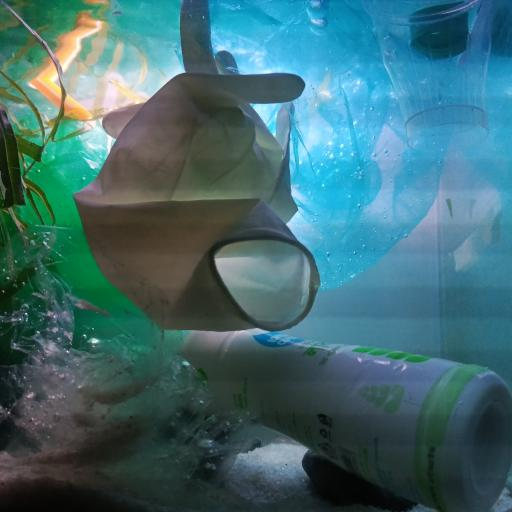bottle_cap: (410, 13, 470, 58)
glove: (73, 0, 323, 332)
plastic_bag: (170, 0, 448, 295), (0, 221, 251, 494), (0, 111, 187, 348)
plastic_bottle: (156, 329, 512, 512)
plastic_cup: (359, 0, 506, 153)
plastic_straw: (35, 76, 91, 116)
